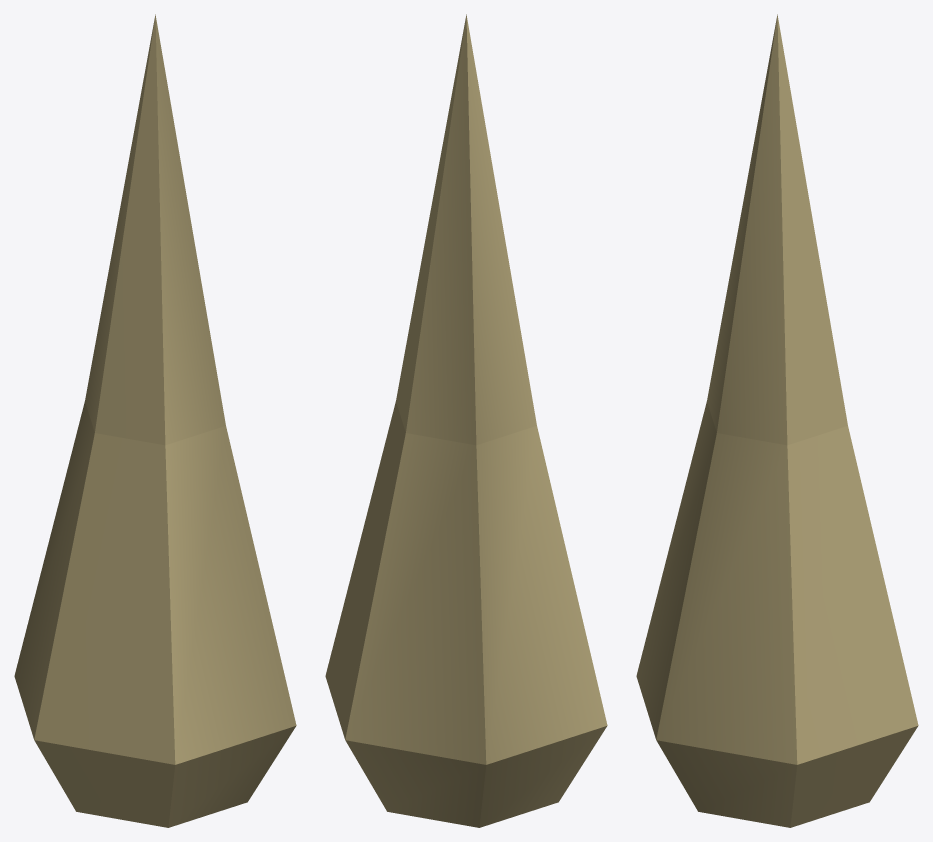
The model's file is 2082_RockSpikes_Electro_Projectile.fbx.
3 renders of one model, left to right at view 1: azimuth 30°, elevation 25°; view 2: azimuth 150°, elevation 25°; view 3: azimuth 270°, elevation 25°, orthographic.
Parts seen in each view (by area): view 1: PART_PointedGeoProjectile; view 2: PART_PointedGeoProjectile; view 3: PART_PointedGeoProjectile.
Boxes of the visible parts, x1,y1,x2,y2 form: PART_PointedGeoProjectile: (14,14,296,827); PART_PointedGeoProjectile: (325,14,607,827); PART_PointedGeoProjectile: (636,14,918,827).
Bounding box in the file's own units: 51.56 × 145 × 48.02.
